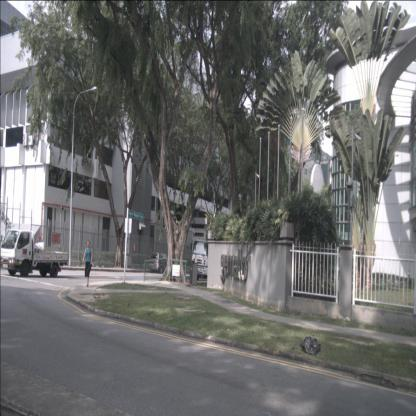human-pedestrian-adult: (82, 239, 93, 287)
vehicle-car: (150, 252, 172, 274)
vehicle-truck: (0, 230, 68, 278), (190, 239, 235, 281)
